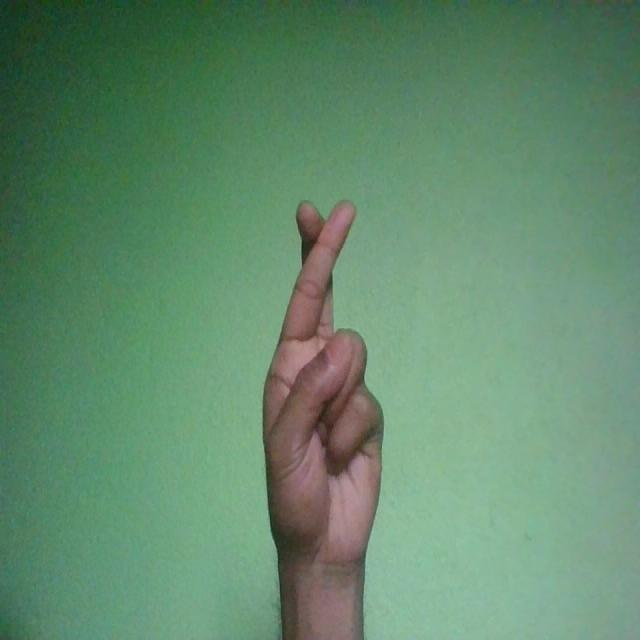Ok: (263, 196, 384, 580)
